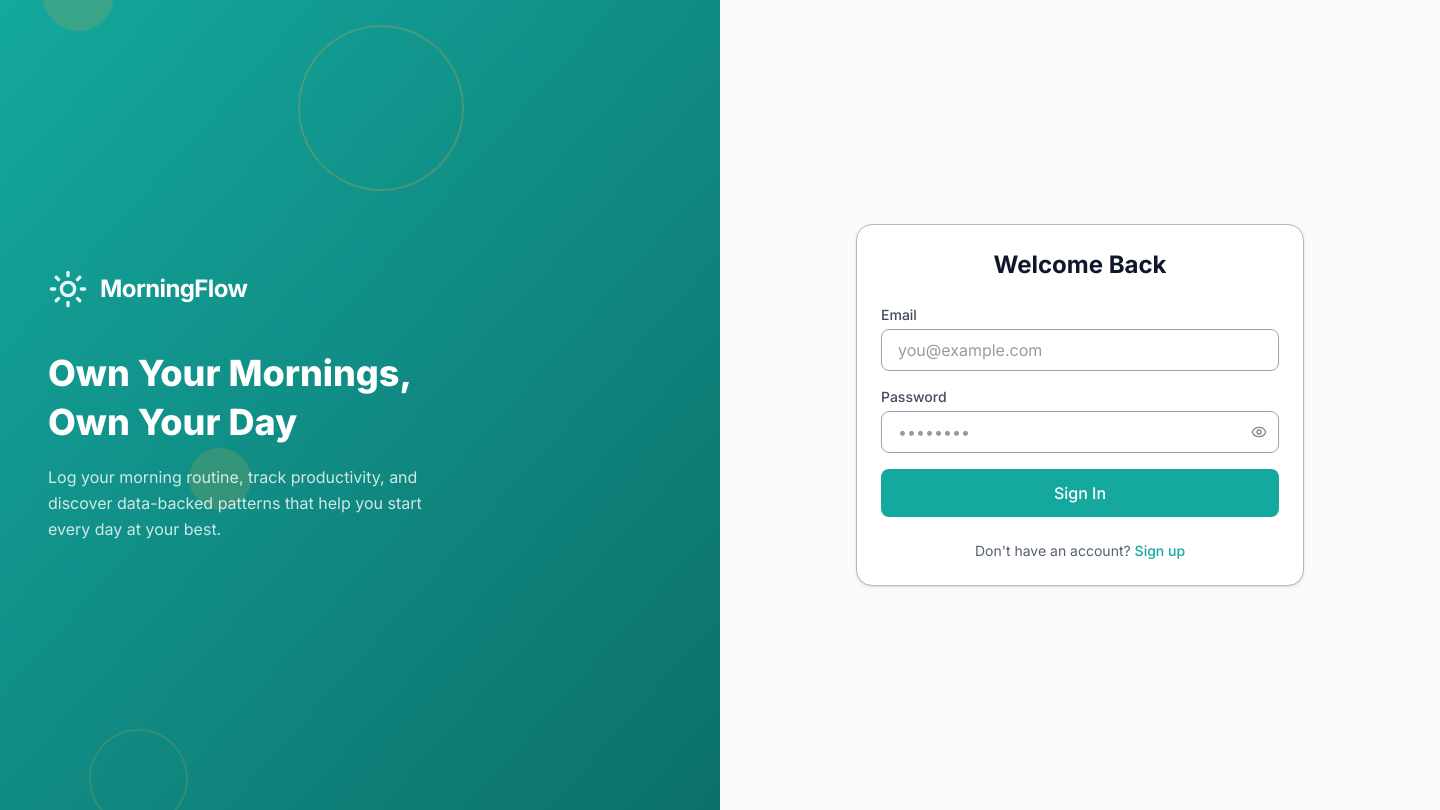
Test: LoginPage — form submission › shows an error message when signIn rejects
Type "me@example.com" into the field labelled "Email".
click(1080, 350); type("me@example.com")  # box [881,329,1279,371]
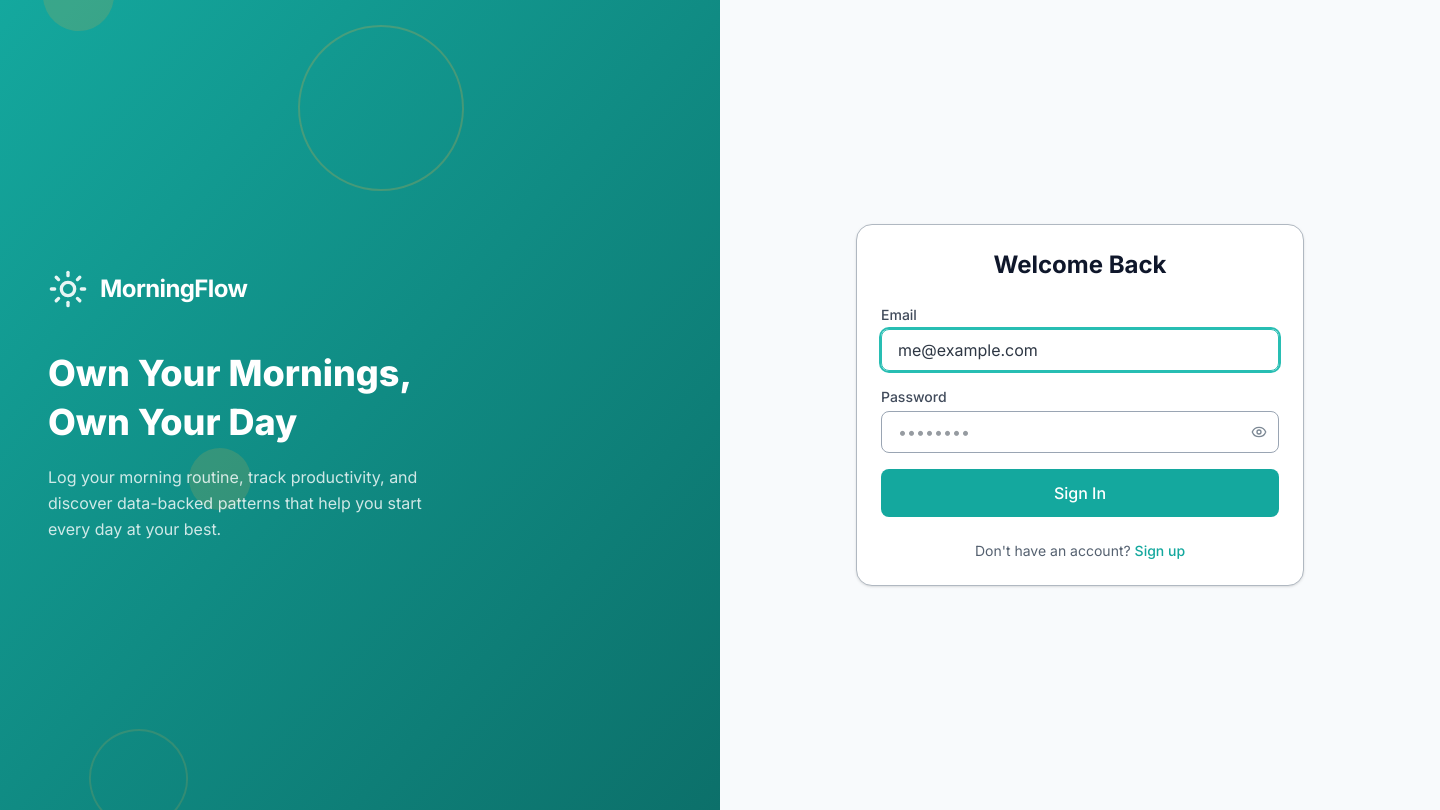
Type "wrong" into the password field labelled "Password".
click(1080, 432); type("wrong")  # box [881,411,1279,453]
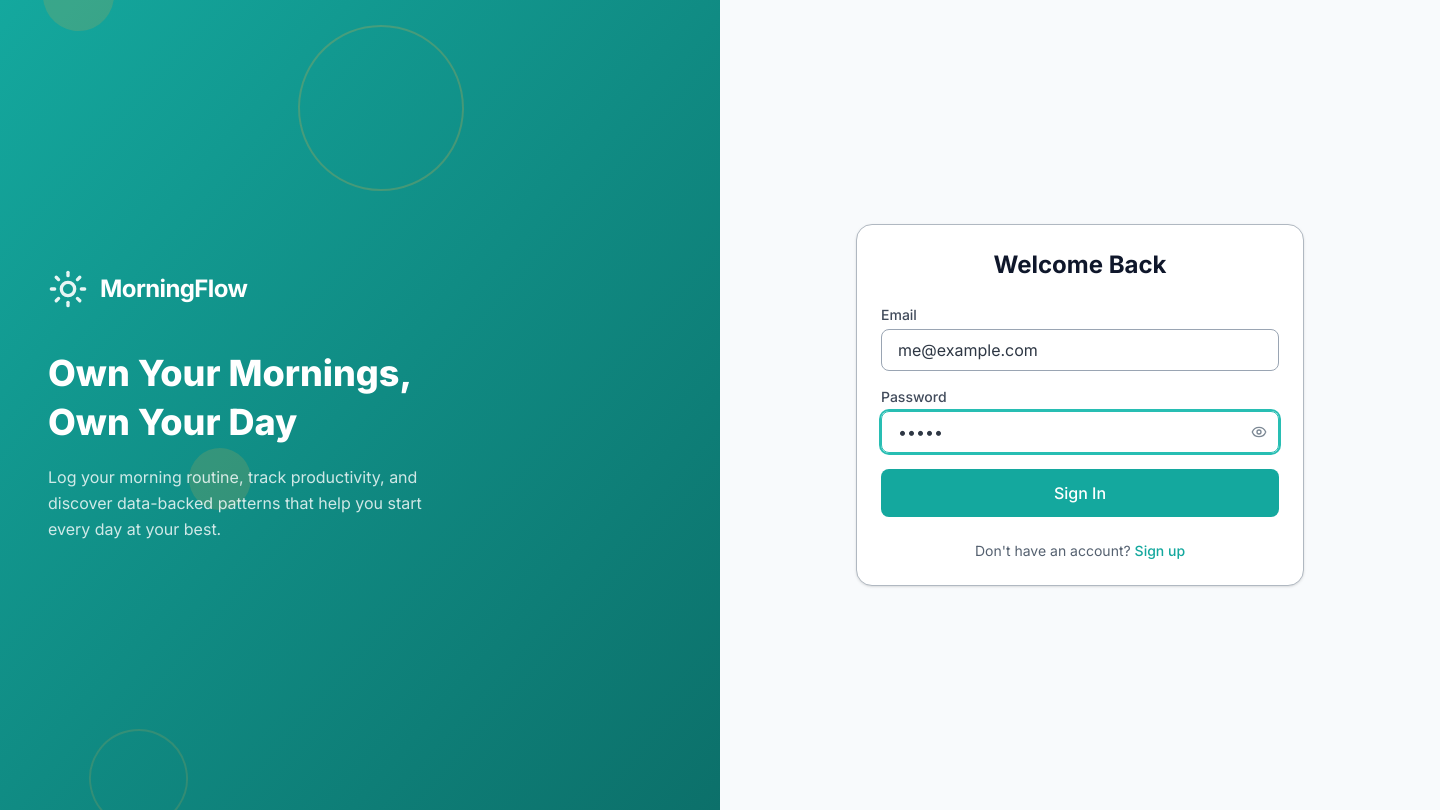
Click the button "Sign In".
click(1080, 493)  # box [881,469,1279,517]
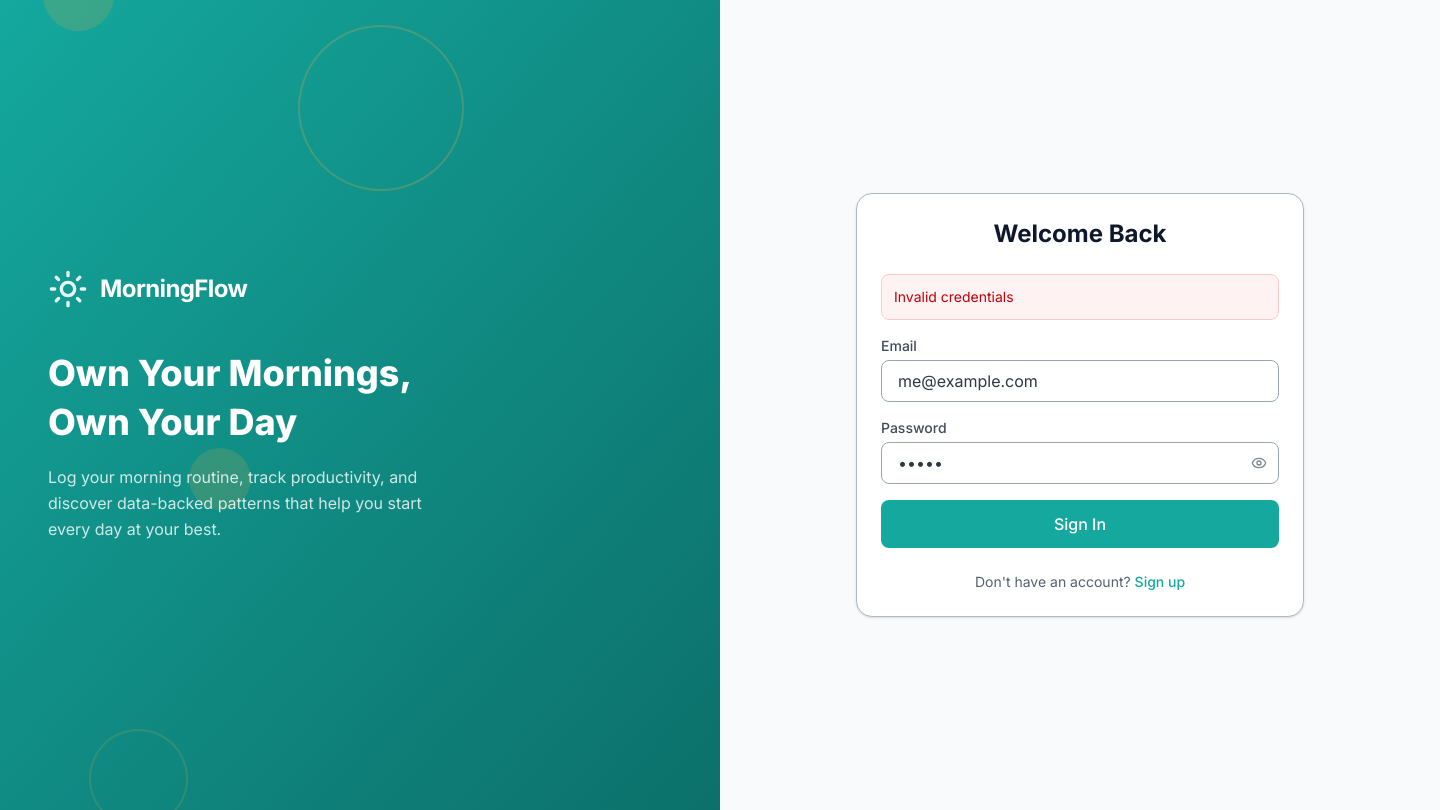
Expected: the message reads "Invalid credentials", [894,288,1014,305]
